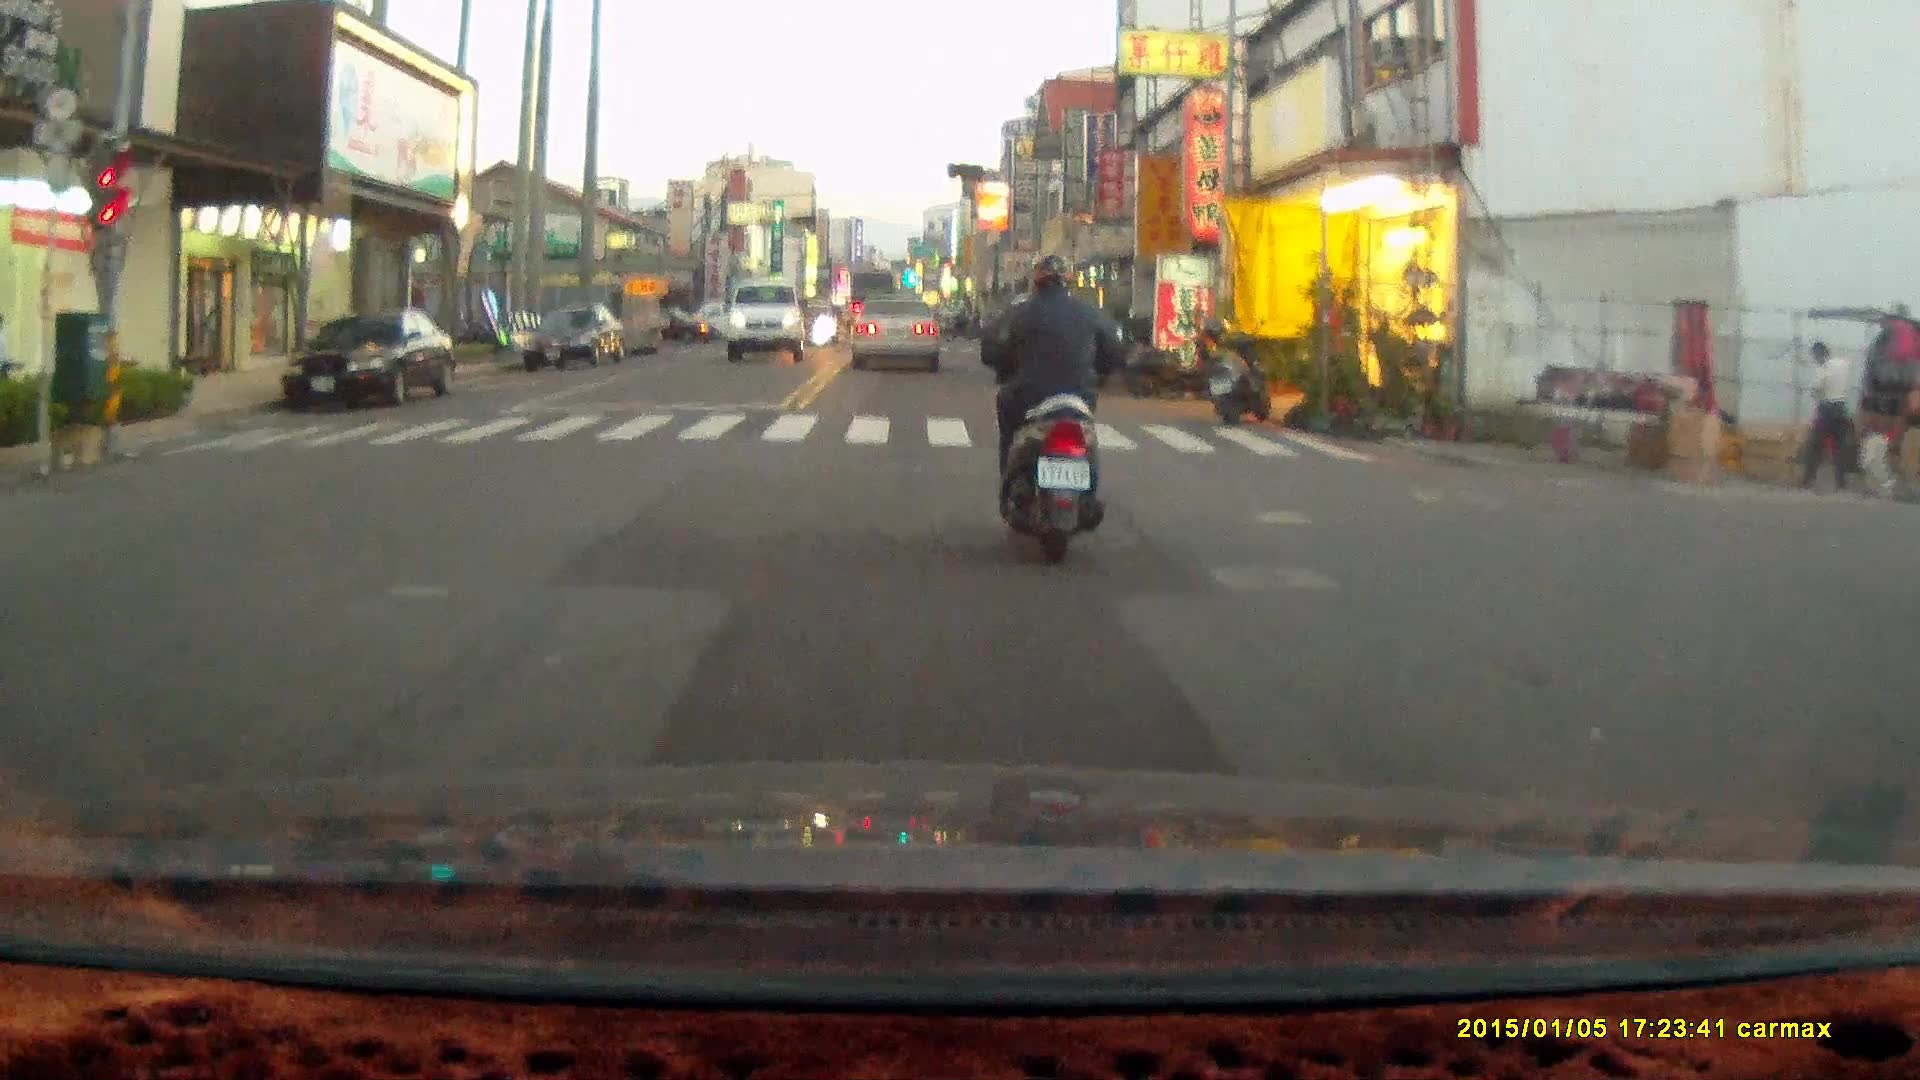pedestrian: (1794, 338, 1851, 492)
rider: (976, 250, 1116, 562)
vehicle: (279, 313, 456, 413), (1856, 311, 1920, 486), (523, 304, 626, 376), (726, 281, 807, 366), (854, 300, 952, 369)
